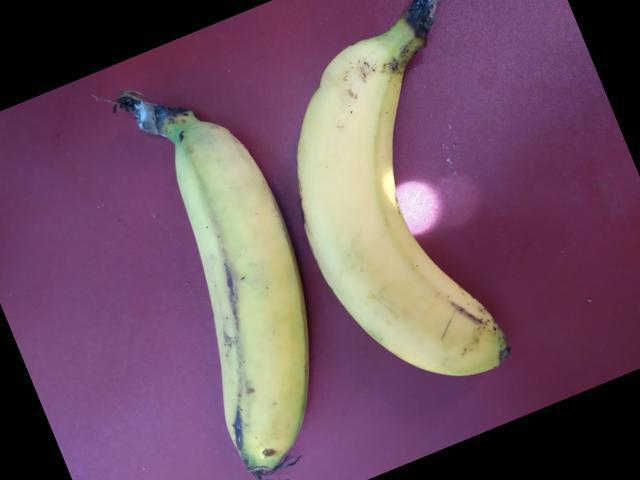freshripe: (299, 25, 530, 400)
ripe: (143, 96, 339, 479)
